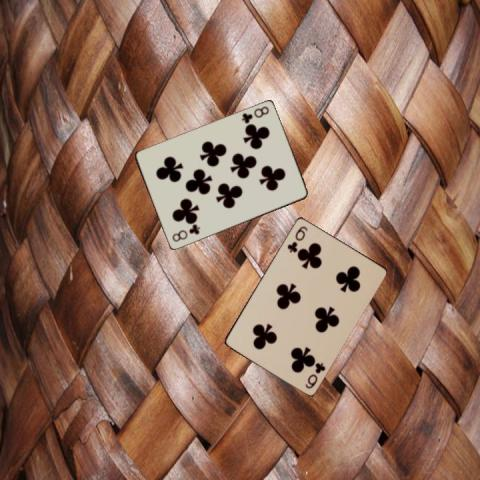6c: (284, 223, 309, 254), (302, 359, 327, 390)
8c: (239, 104, 270, 126), (169, 222, 201, 243)
